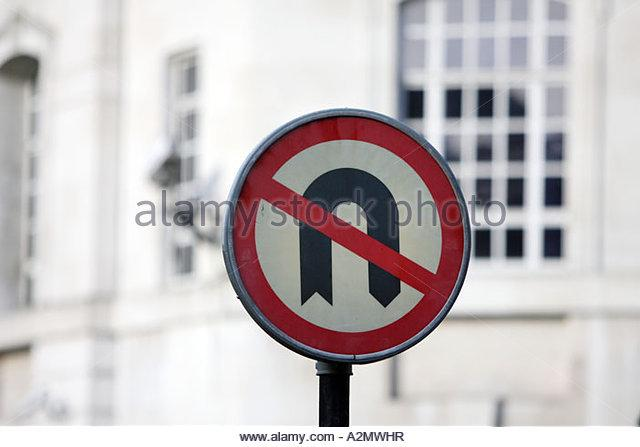no_u_turn: (223, 108, 473, 357)
